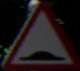Speed Breaker ahead: (10, 6, 70, 60)
